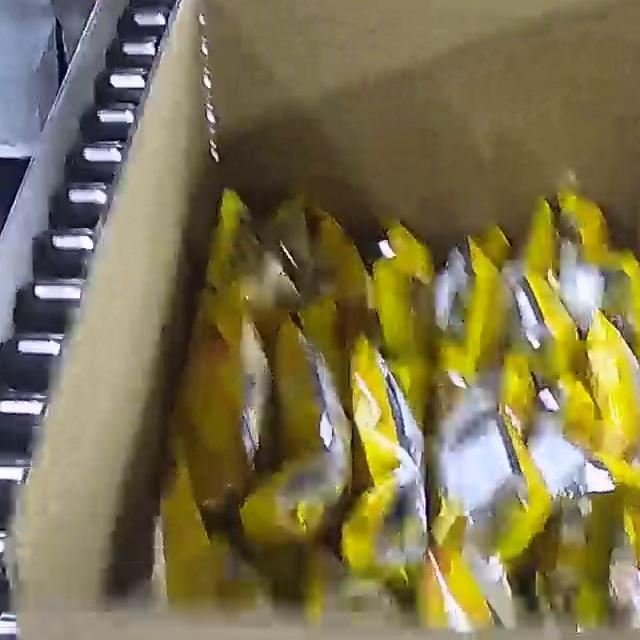salted: (156, 179, 640, 638)
